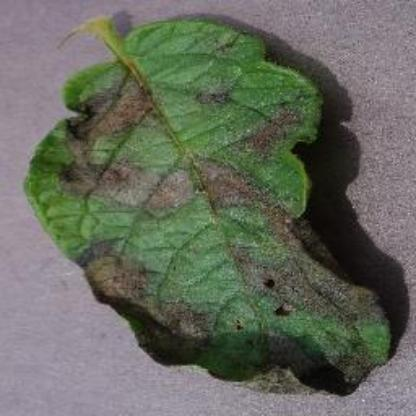Late-Blight: (16, 13, 398, 399)
